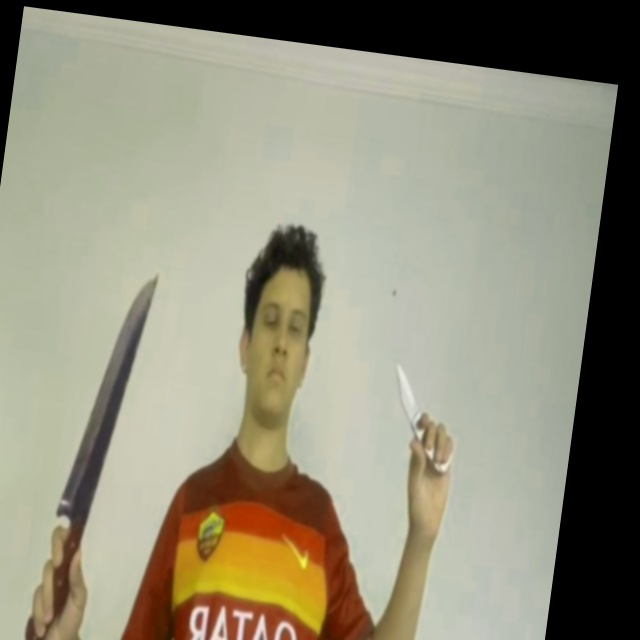Sharp-Object: (56, 262, 159, 526), (390, 358, 424, 423)
